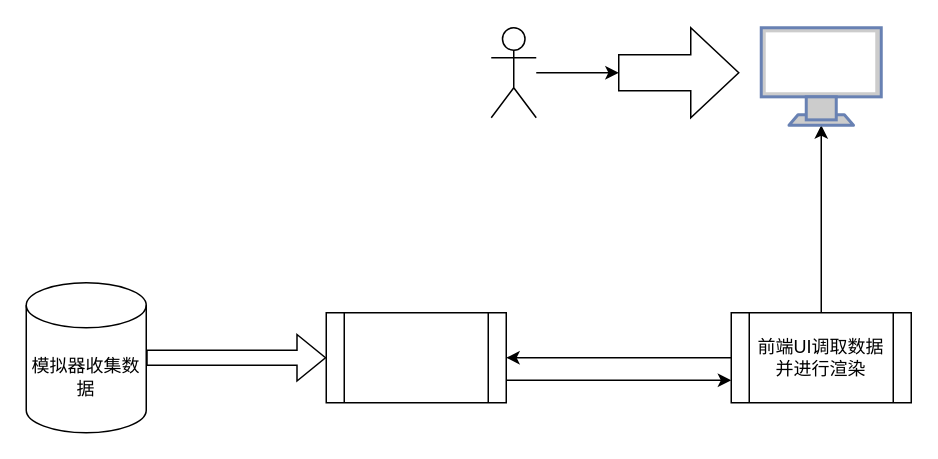
Image size: 938x459. Some labels were removed from this diagram. Here are the shapes that lost their labels. From the top down, the centre of each, then its label:
pixel 513 72: 用户
pixel 415 357: 后端程序进行数据存储
